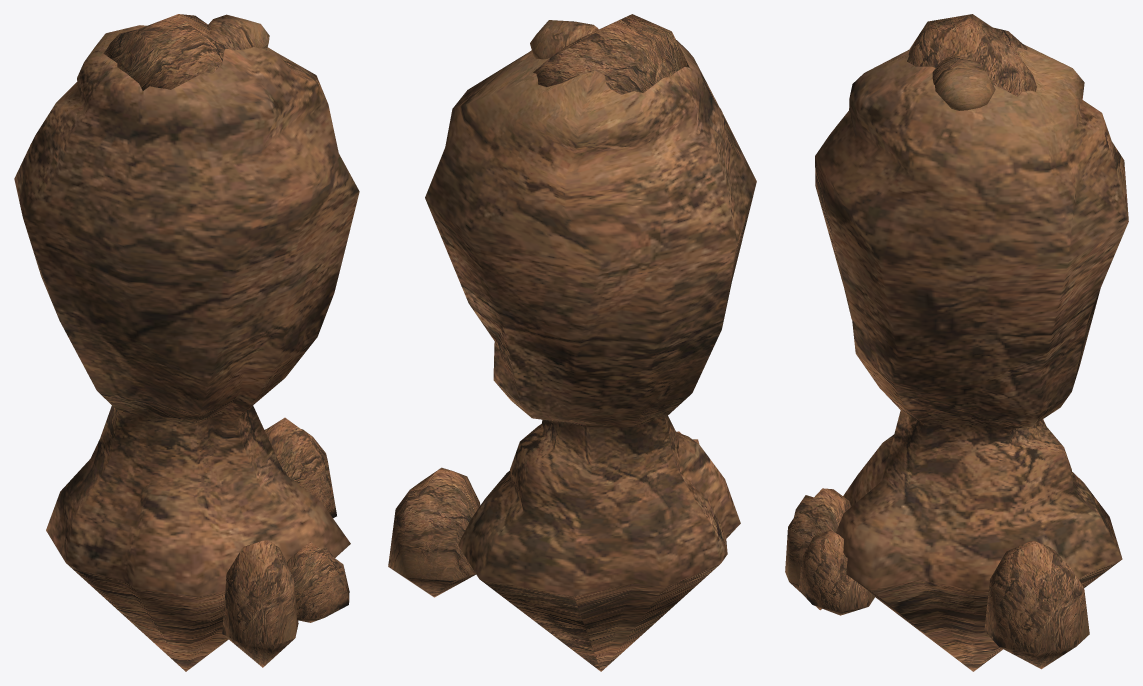
File: rock_tatt_mushroom_a1_l1.fbx
3 views of the same model, side by side, from view 1: azimuth 30°, elevation 25°; view 2: azimuth 150°, elevation 25°; view 3: azimuth 270°, elevation 25° (orthographic). The views are drawn at different scales.
Visible parts, largest first — view 1: mesh_node; view 2: mesh_node; view 3: mesh_node.
Part boxes in pixels (x1,y1,x2,y2): mesh_node: [14, 14, 359, 671]; mesh_node: [388, 14, 756, 671]; mesh_node: [785, 14, 1128, 671].
Bounding box in the file's own units: 32.95 × 63.26 × 30.77.
Materials: 1 (1 with a texture image).
